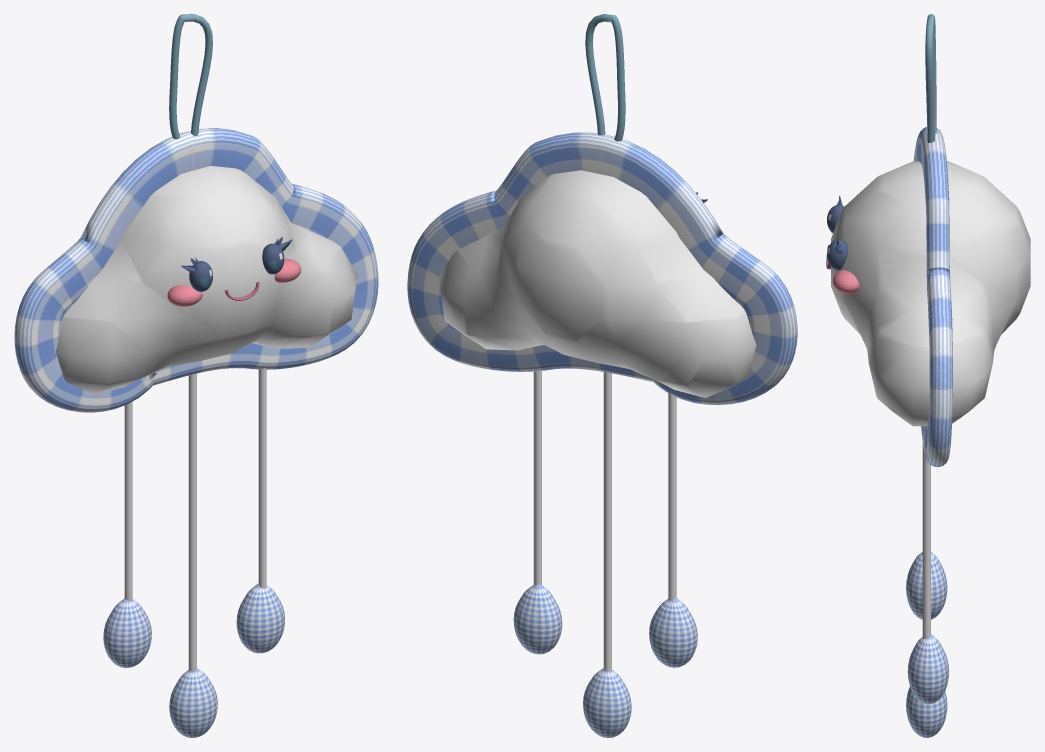
The picture shows the model from 3 angles, left to right: view 1: azimuth 30°, elevation 25°; view 2: azimuth 150°, elevation 25°; view 3: azimuth 270°, elevation 25°; orthographic projection.
Parts seen in each view (by area): view 1: 融球.003, 贝塞尔曲线.002, 柱体.001, 球体, 球体.008, 球体.009, 贝塞尔曲线.003, 柱体.002, 柱体, 球体.005, 球体.004, 球体.006; view 2: 融球.003, 贝塞尔曲线.002, 柱体.001, 球体.009, 球体, 球体.008, 贝塞尔曲线.003, 柱体.002, 柱体; view 3: 融球.003, 贝塞尔曲线.002, 球体.009, 球体, 柱体.002, 球体.008, 贝塞尔曲线.003, 球体.005, 球体.007.
Part boxes in pixels (<box>): 融球.003: <box>56,166,357,394</box>; 贝塞尔曲线.002: <box>14,128,378,412</box>; 柱体.001: <box>188,373,196,671</box>; 球体: <box>103,598,151,667</box>; 球体.008: <box>169,668,217,737</box>; 球体.009: <box>236,583,284,653</box>; 贝塞尔曲线.003: <box>169,14,212,139</box>; 柱体.002: <box>258,368,266,588</box>; 柱体: <box>124,401,132,600</box>; 球体.005: <box>262,237,292,274</box>; 球体.004: <box>181,257,212,291</box>; 球体.006: <box>167,285,202,306</box>; 融球.003: <box>438,170,756,397</box>; 贝塞尔曲线.002: <box>407,132,797,405</box>; 柱体.001: <box>603,372,611,671</box>; 球体.009: <box>513,584,562,654</box>; 球体: <box>649,598,697,667</box>; 球体.008: <box>583,668,631,737</box>; 贝塞尔曲线.003: <box>585,14,625,141</box>; 柱体.002: <box>533,371,541,585</box>; 柱体: <box>668,392,676,600</box>; 融球.003: <box>831,161,1030,426</box>; 贝塞尔曲线.002: <box>913,126,952,467</box>; 球体.009: <box>907,634,949,703</box>; 球体: <box>906,552,947,619</box>; 柱体.002: <box>922,443,930,638</box>; 球体.008: <box>906,687,947,737</box>; 贝塞尔曲线.003: <box>925,14,936,142</box>; 球体.005: <box>827,238,847,269</box>; 球体.007: <box>833,269,859,293</box>.
Size of the model in its own units: 340 by 628 by 162.
9 materials, 1 textured.
